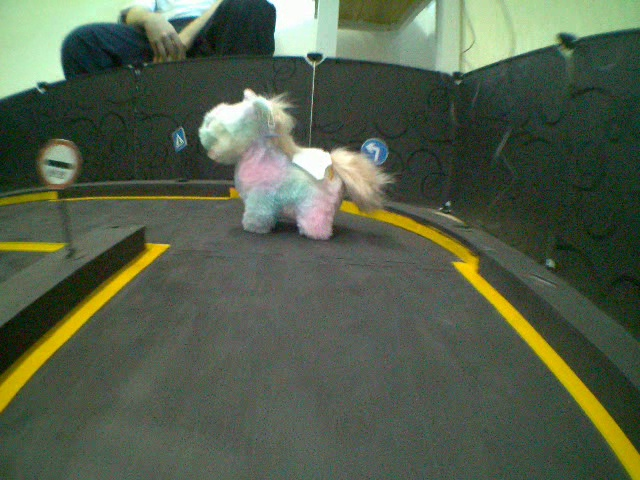unicorn: (198, 87, 389, 241)
